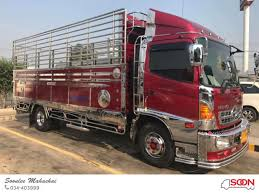truck: (128, 7, 250, 170)
